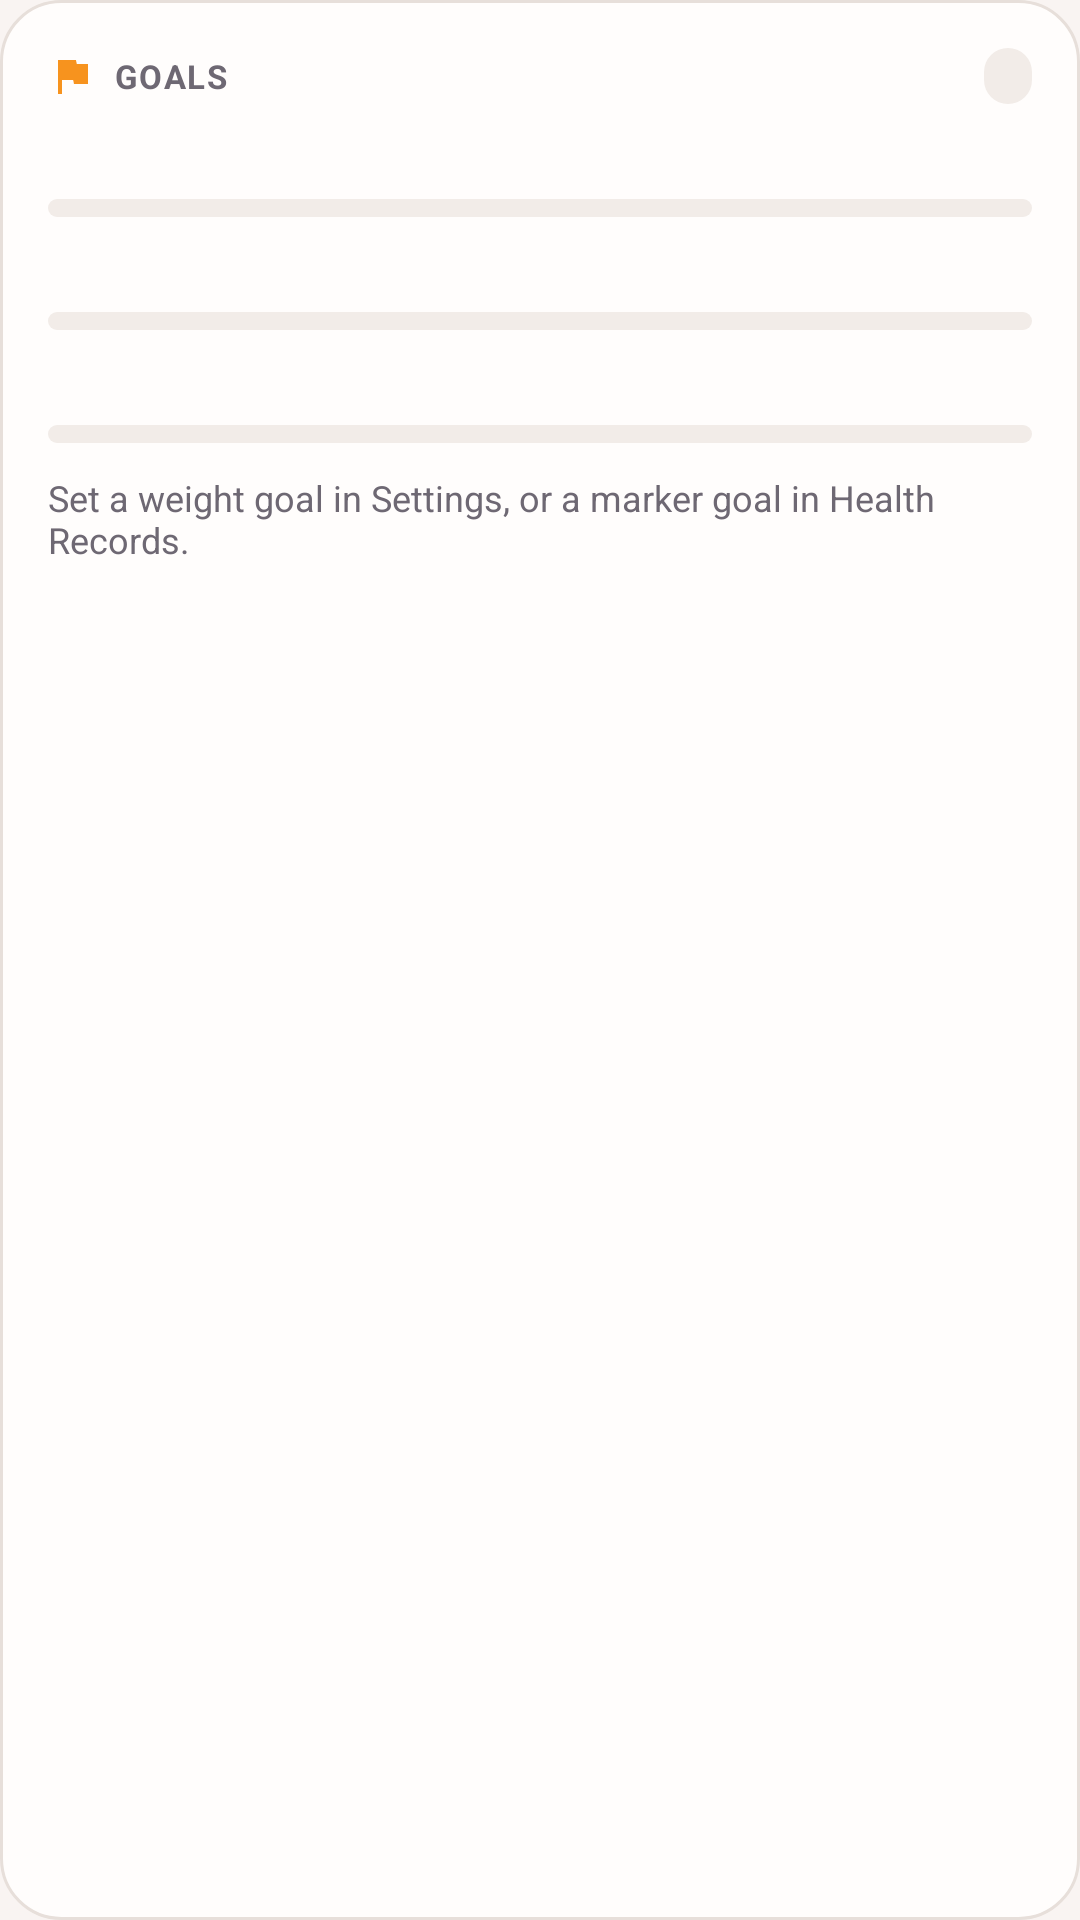

Icon bounding boxes for this 1080px×1920px phone screenshot, format bbox(x1, y1, x2, y2):
widget flag: bbox(58, 60, 88, 94)
